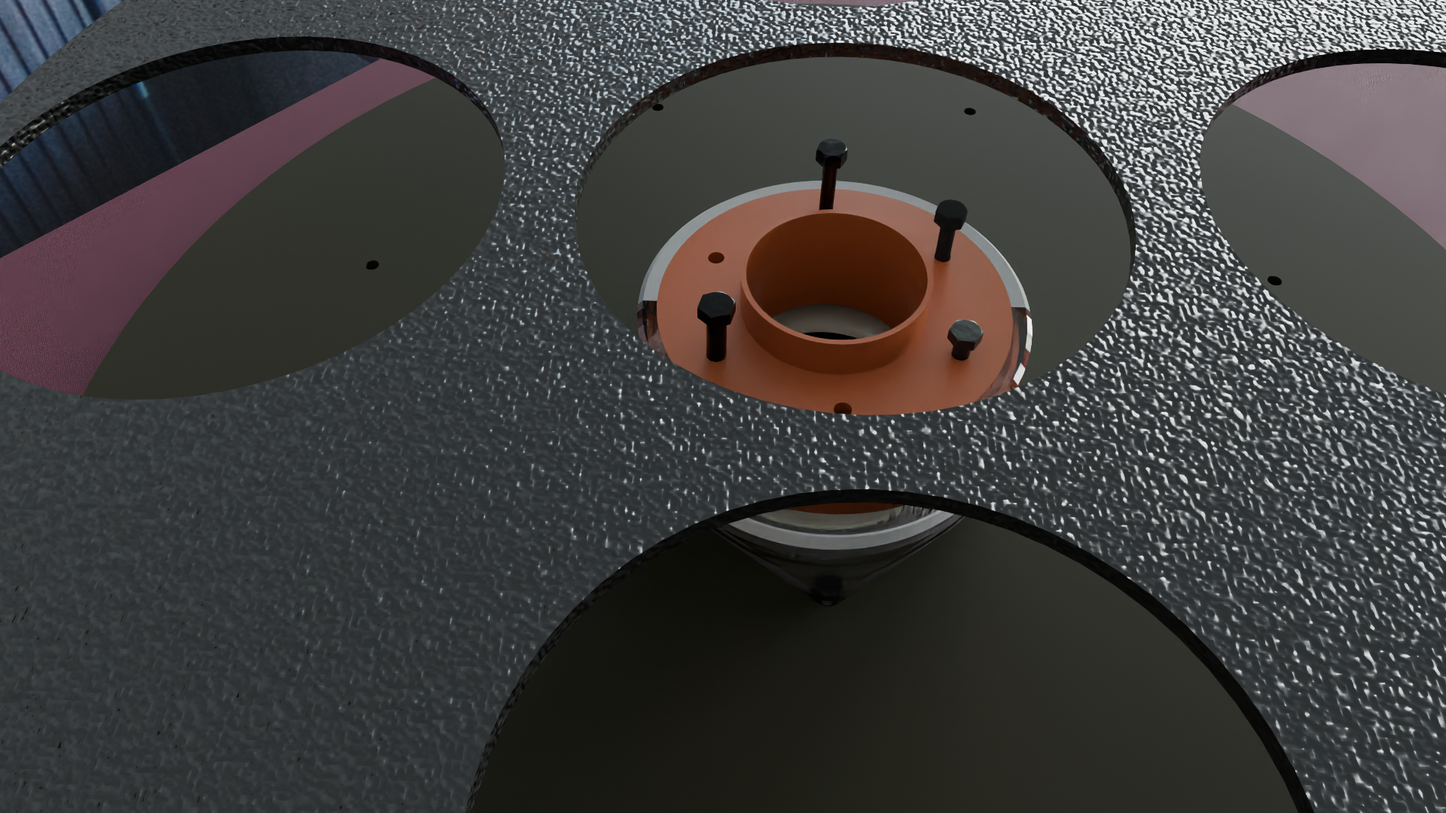bolt: (697, 291, 736, 318), (949, 320, 984, 343), (935, 199, 968, 221), (816, 139, 847, 159)
